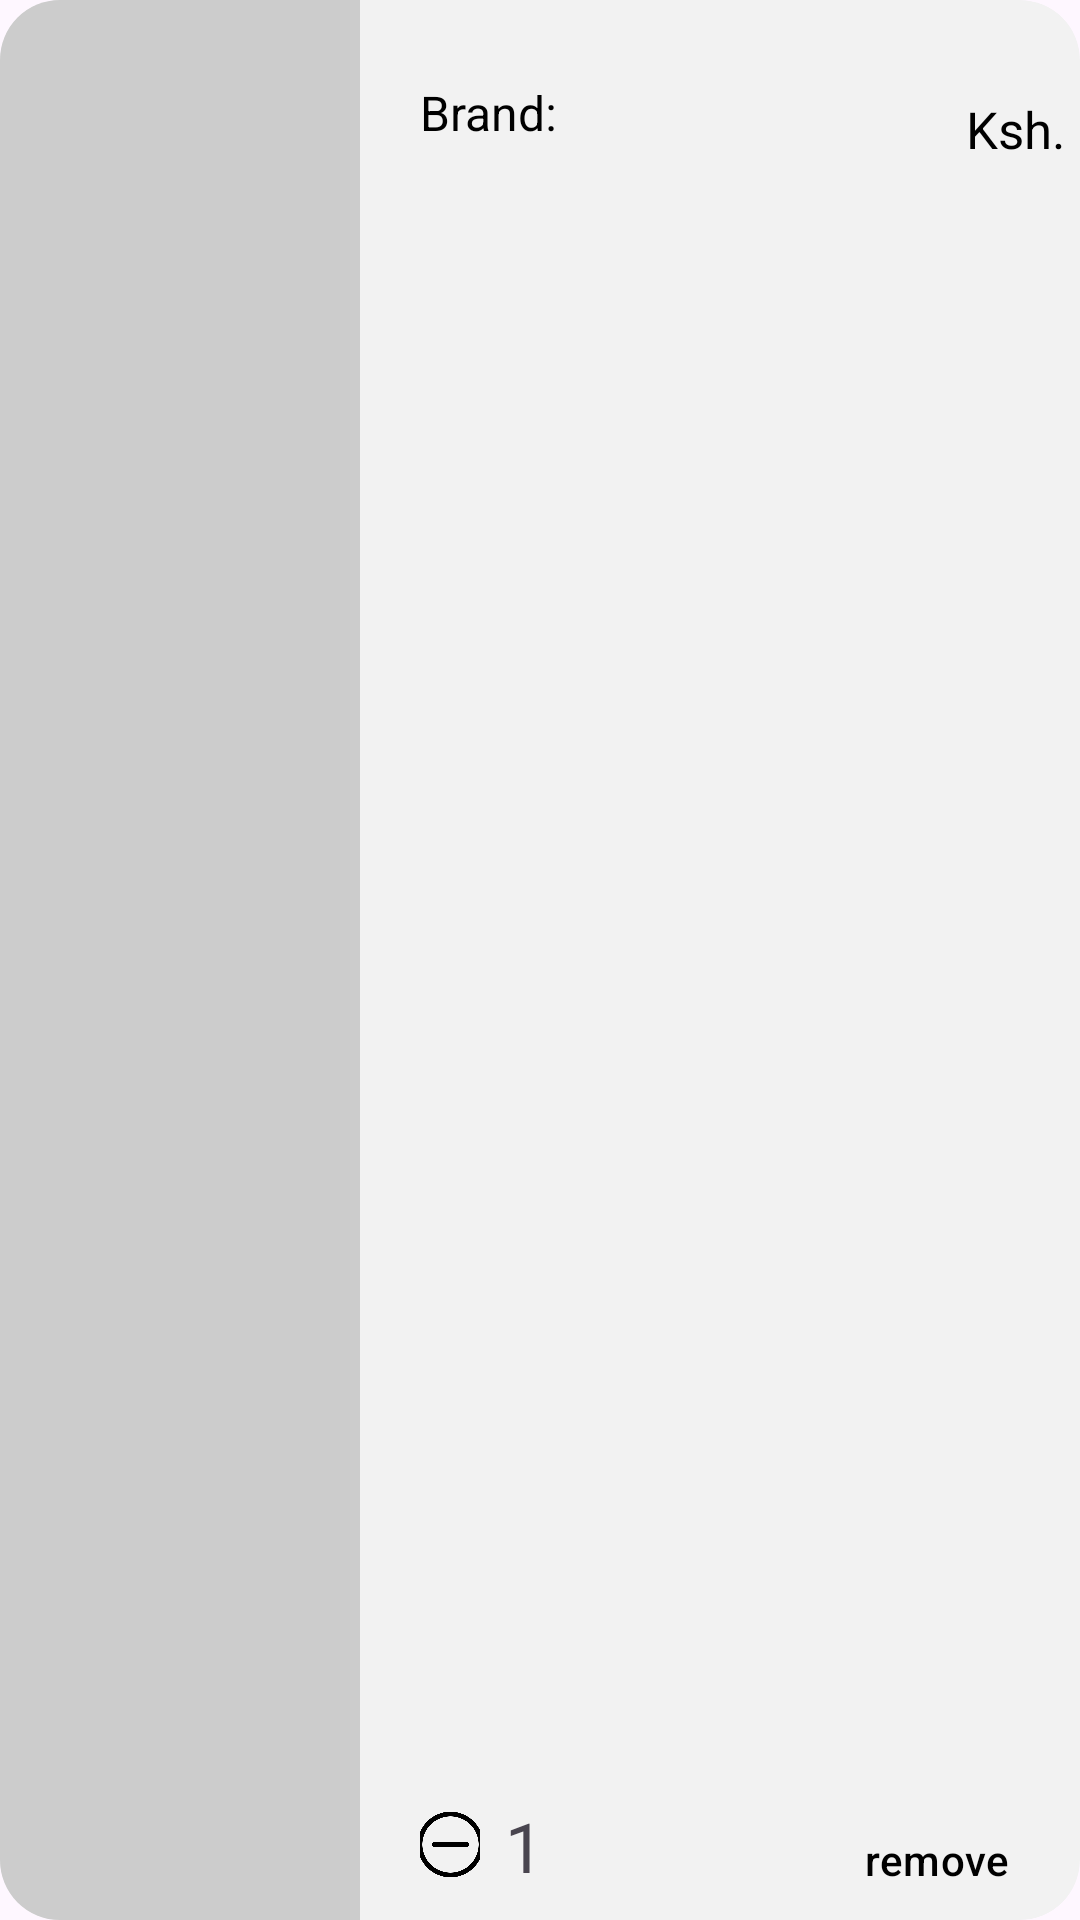

Where to tap for icons on this 1080*1920 app screen, as point (x, y):
minus: point (450, 1844)
